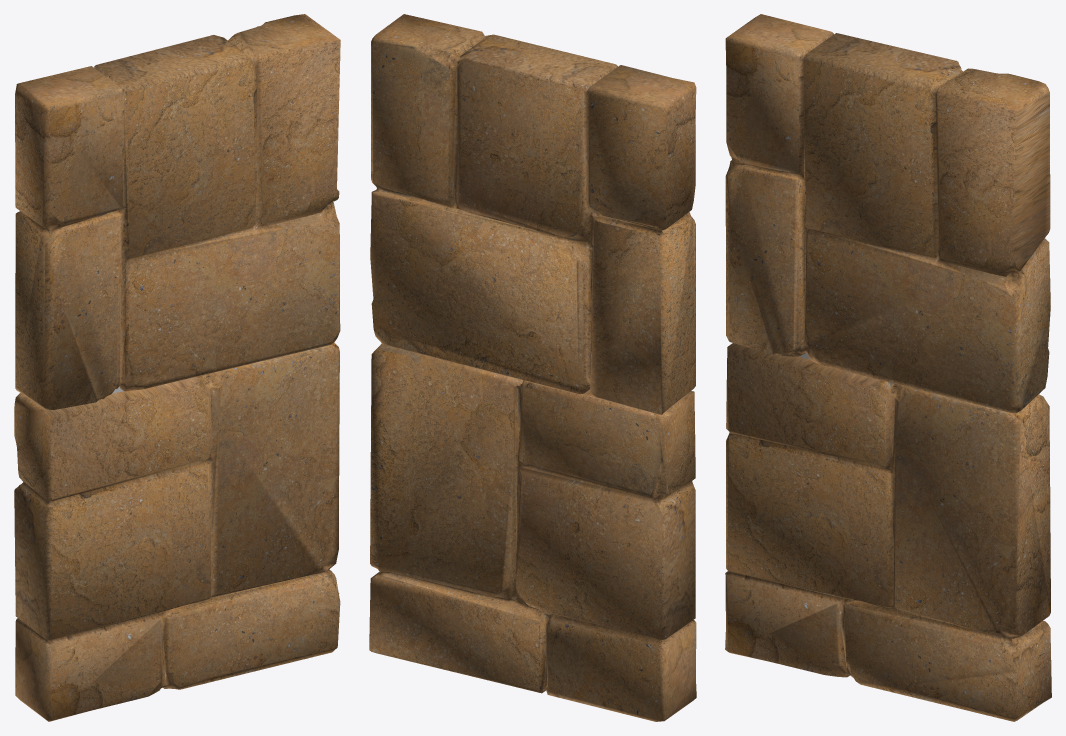
The model's file is HalfWallWithoutFilling.gltf.
The picture shows the model from 3 angles, left to right: view 1: azimuth 30°, elevation 25°; view 2: azimuth 150°, elevation 25°; view 3: azimuth 330°, elevation 25°; orthographic projection.
Visible parts, largest first — view 1: HalfWallWithoutFilling; view 2: HalfWallWithoutFilling; view 3: HalfWallWithoutFilling.
Boxes of the visible parts, x1,y1,x2,y2 form: HalfWallWithoutFilling: (14, 14, 340, 721); HalfWallWithoutFilling: (369, 14, 696, 721); HalfWallWithoutFilling: (725, 14, 1051, 721).
Size of the model in its own units: 2 by 4 by 0.4039.
